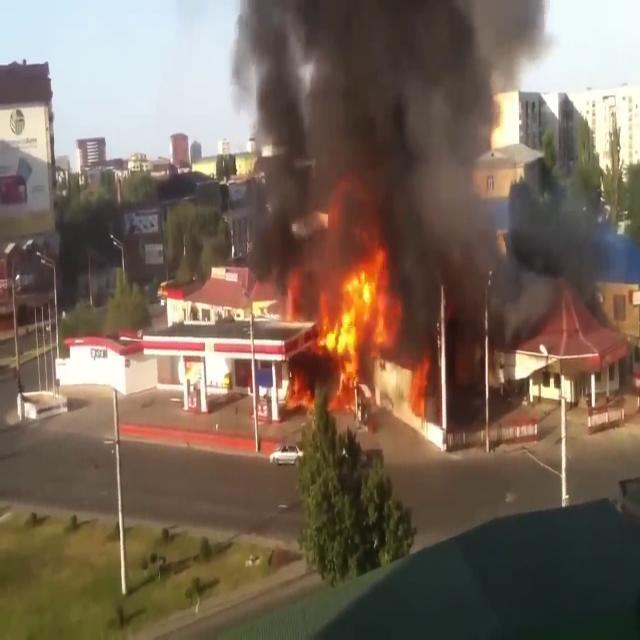Fire: (318, 247, 397, 373), (381, 352, 447, 450)
Smoke: (222, 0, 568, 286)
